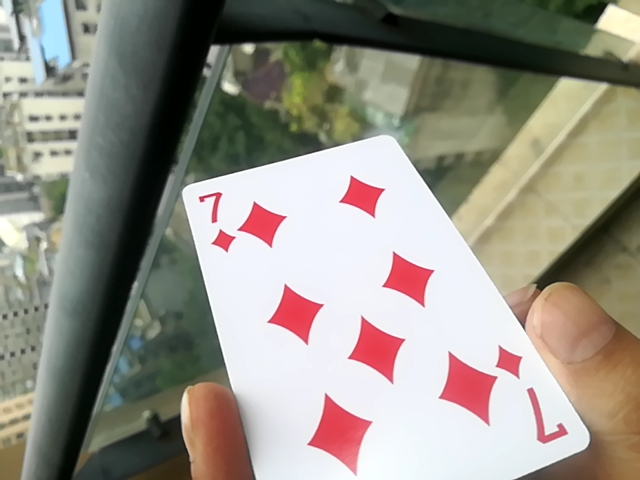fk 7: (173, 130, 593, 478)
